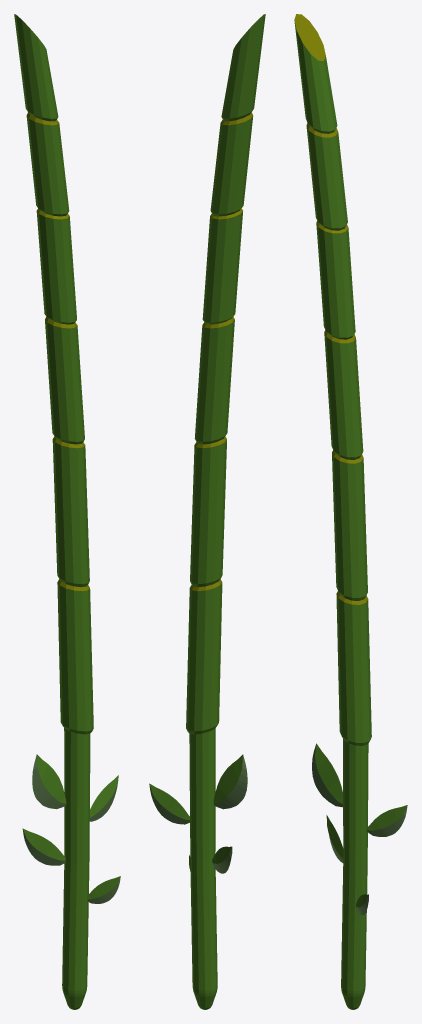
Rendered from bamboo 1.fbx.
The picture shows the model from 3 angles, left to right: view 1: azimuth 30°, elevation 25°; view 2: azimuth 150°, elevation 25°; view 3: azimuth 330°, elevation 25°; orthographic projection. The views are drawn at different scales.
Visible parts, largest first — view 1: Circle, Circle.001, Plane.007, Plane, Plane.008, Plane.004, Plane.002, Plane.009; view 2: Circle, Circle.001, Plane.007, Plane, Plane.004, Plane.001; view 3: Circle, Circle.004, Plane.007, Circle.001, Plane.004, Plane, Plane.001, Plane.008.
Part boxes in pixels (x1,y1,x2,y2): Circle: (14,14,93,1009); Circle.001: (26,112,89,590); Plane.007: (36,754,66,803); Plane: (32,755,66,809); Plane.008: (22,828,65,860); Plane.004: (90,775,118,817); Plane.002: (22,829,65,865); Plane.009: (87,876,120,899); Circle: (186,14,265,1009); Circle.001: (190,112,252,591); Plane.007: (213,754,242,803); Plane: (213,754,247,809); Plane.004: (149,783,189,824); Plane.001: (151,794,185,824); Circle: (294,20,371,1009); Circle.004: (294,14,325,60); Plane.007: (315,743,342,804); Circle.001: (306,123,367,604); Plane.004: (366,805,407,834); Plane: (312,744,342,807); Plane.001: (371,814,405,836); Plane.008: (326,815,343,858).
Bounding box in the file's own units: 69.06 × 613 × 30.09.
